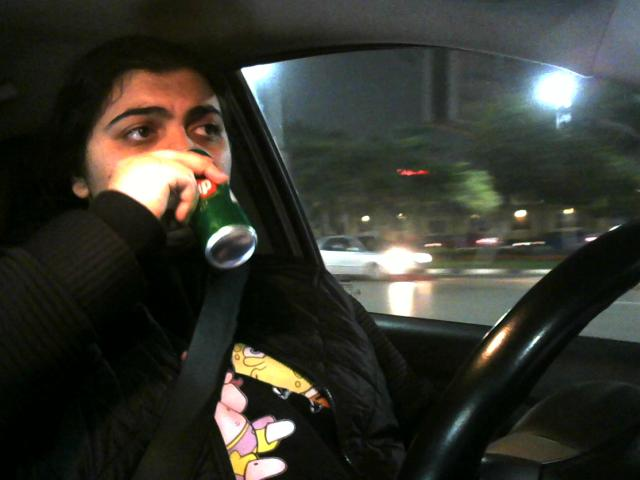Drinking: (68, 68, 259, 268)
